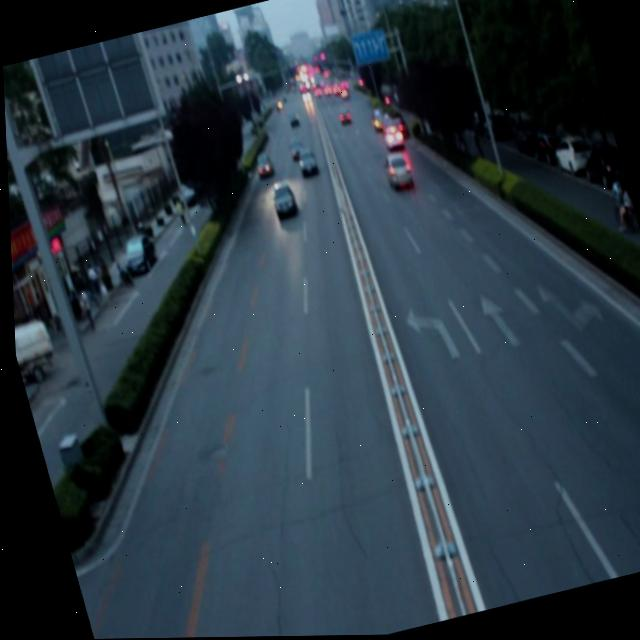car: (378, 149, 411, 192), (265, 179, 297, 221)
